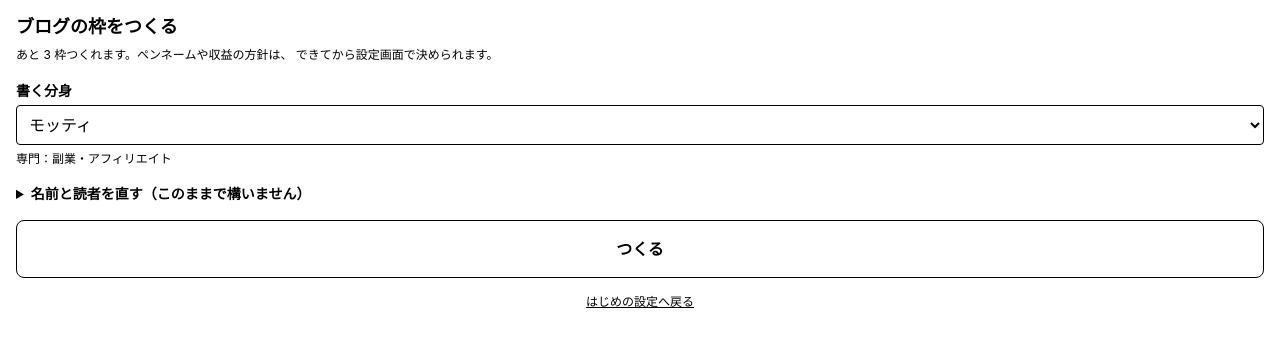
Test: つくれる › 保存に失敗すると理由を出す
The width and height of the screenshot is (1280, 364).
Click the button "つくる": (640, 249) 16,220 -> 1264,278
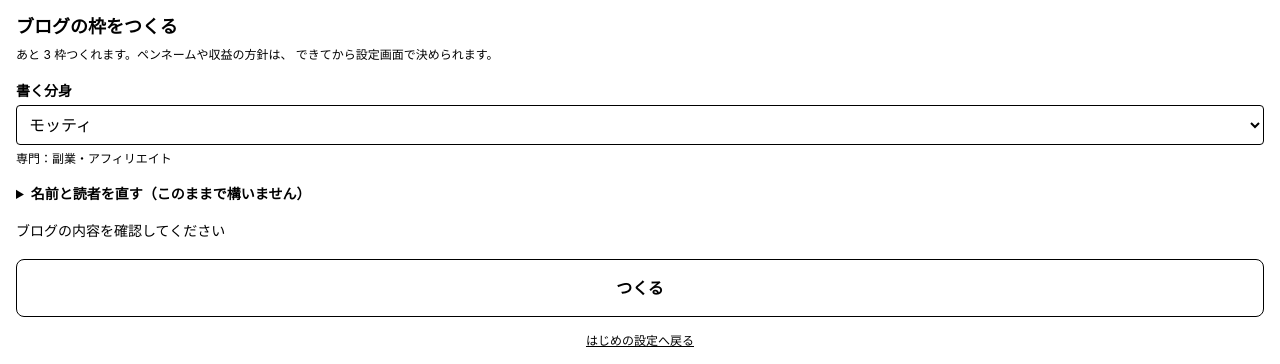
Expected: the text "ブログの内容を確認してください" is shown, 16,222 -> 225,239
